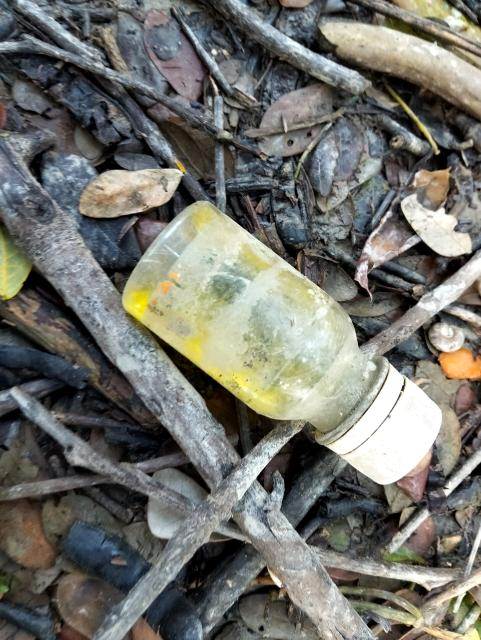bottle: (98, 179, 466, 537)
